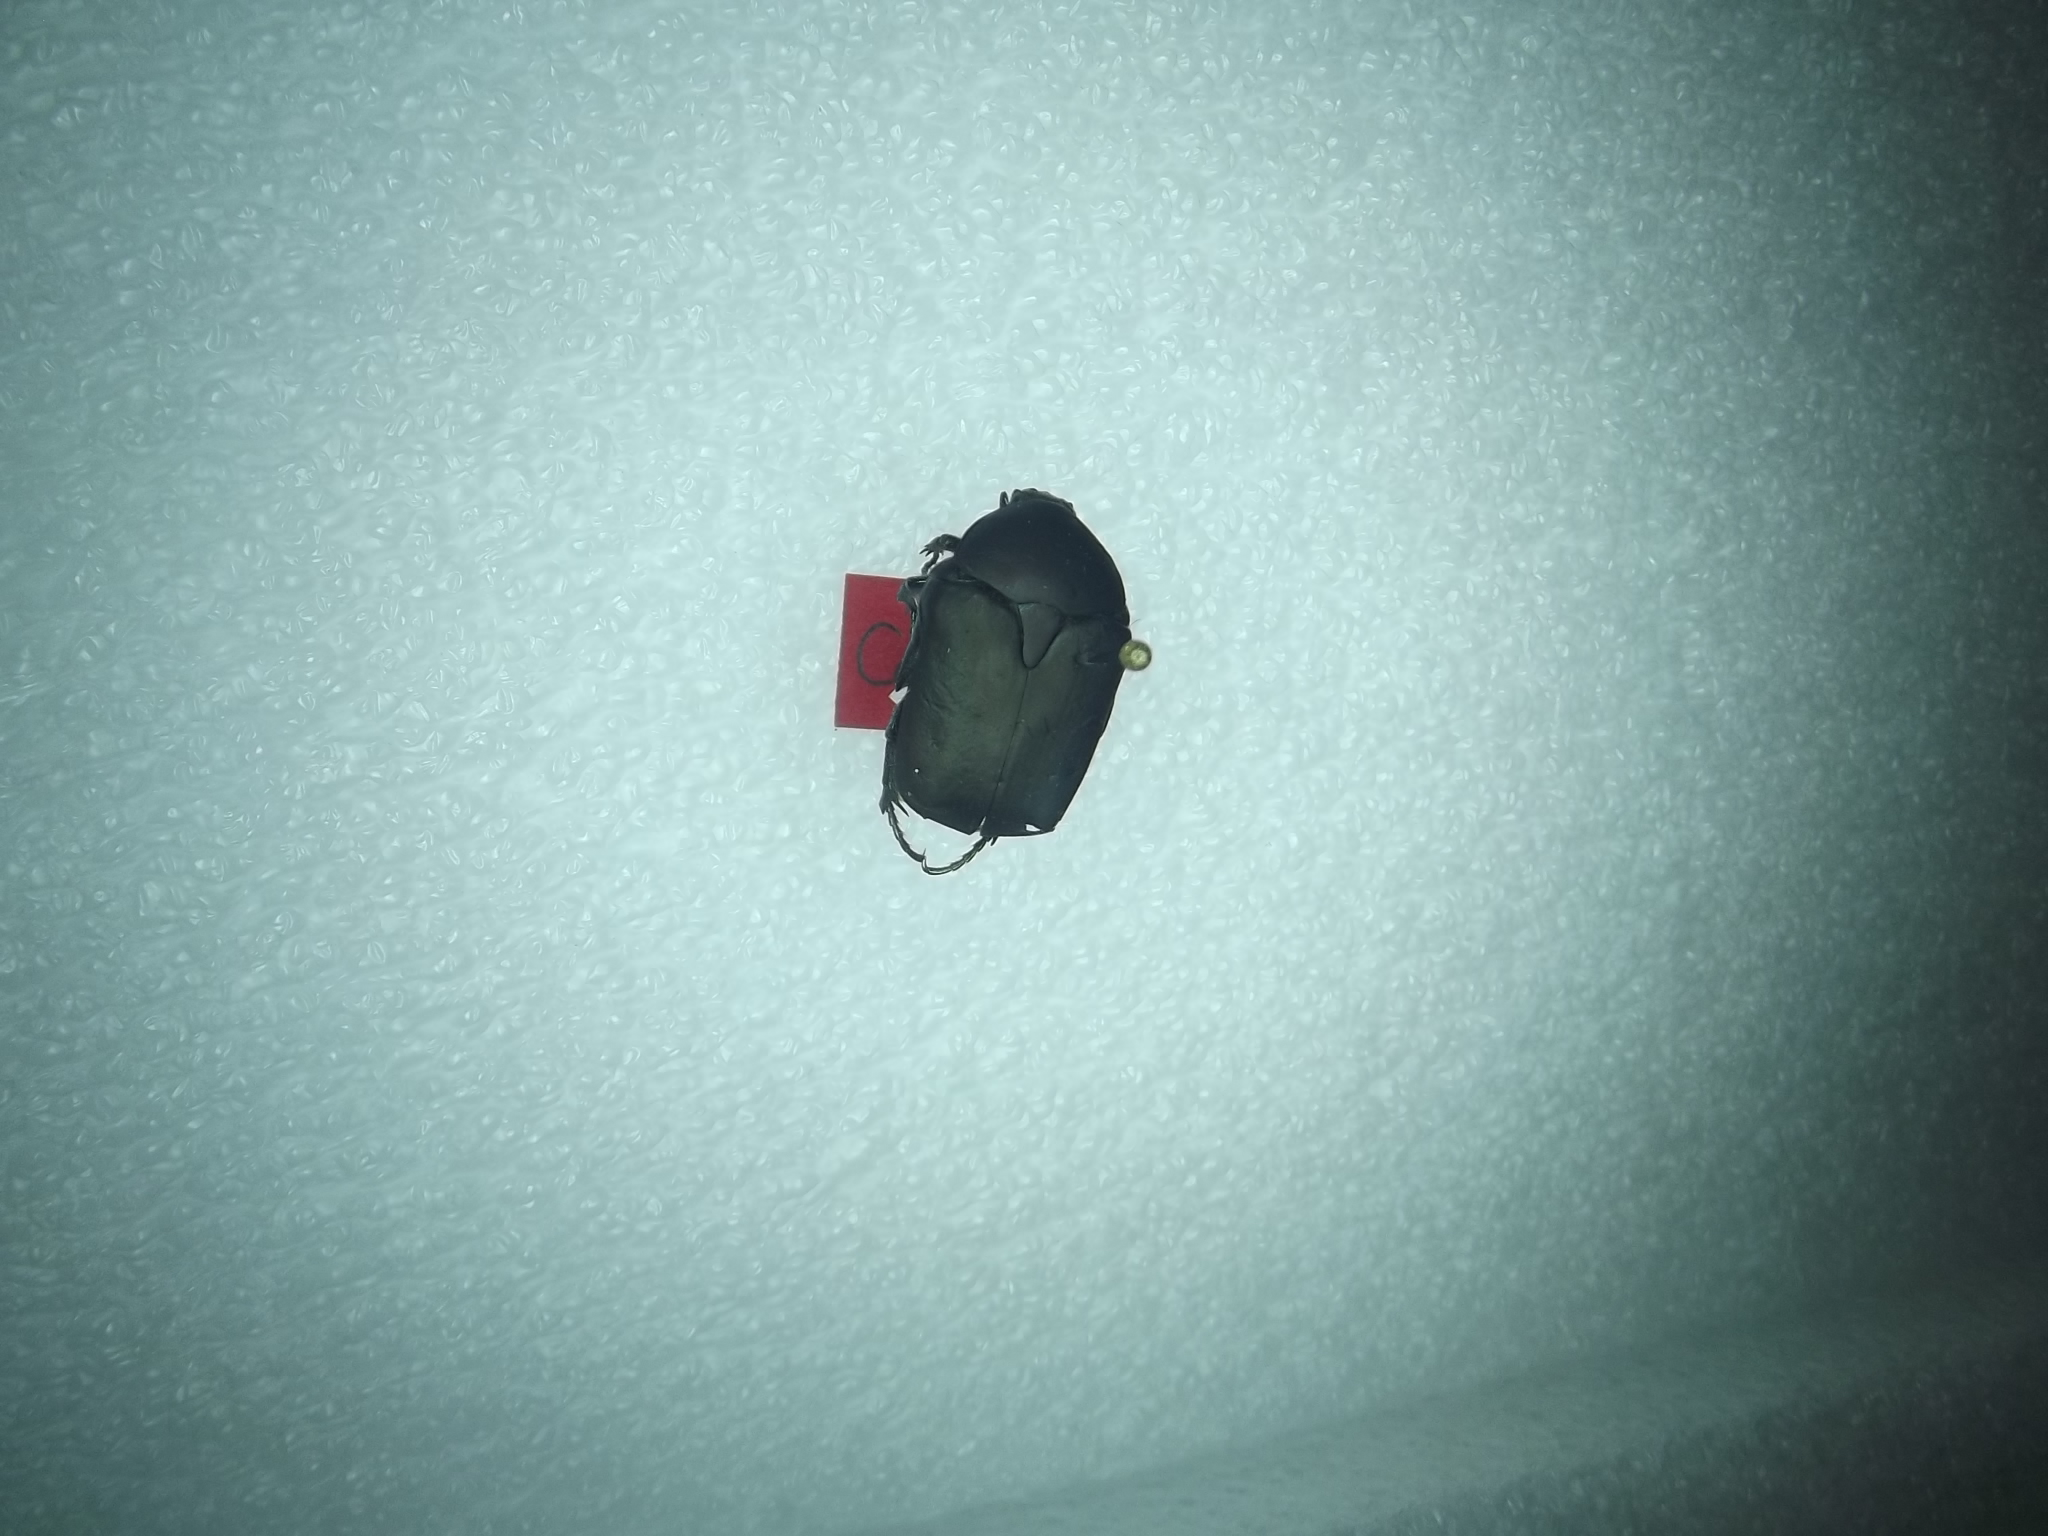Protaetia_ungarica_americana: (848, 474, 1155, 895)
